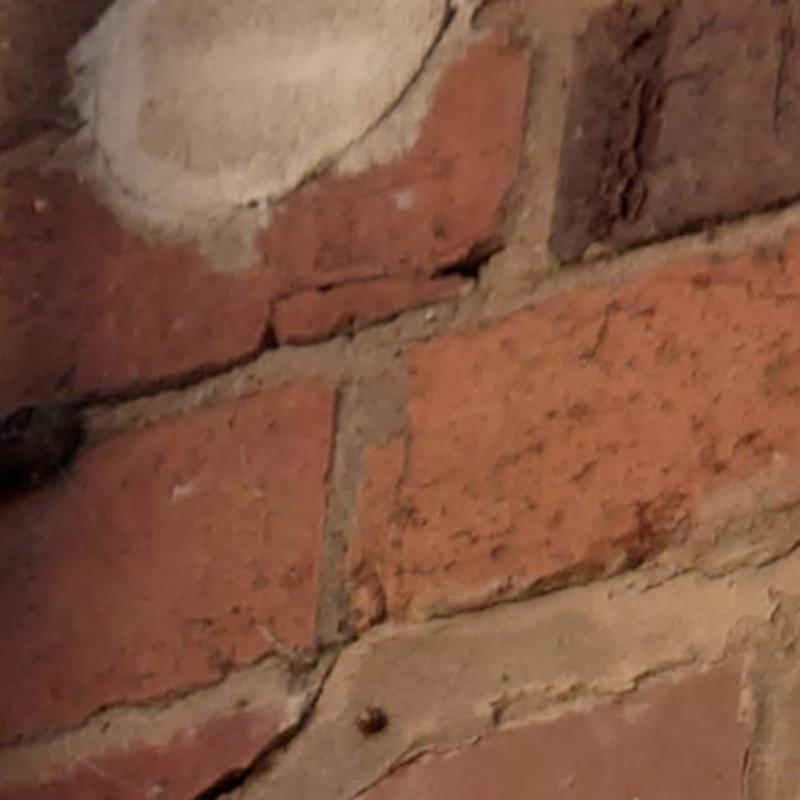pothole: (71, 271, 451, 410), (198, 648, 340, 799), (432, 248, 500, 279)
